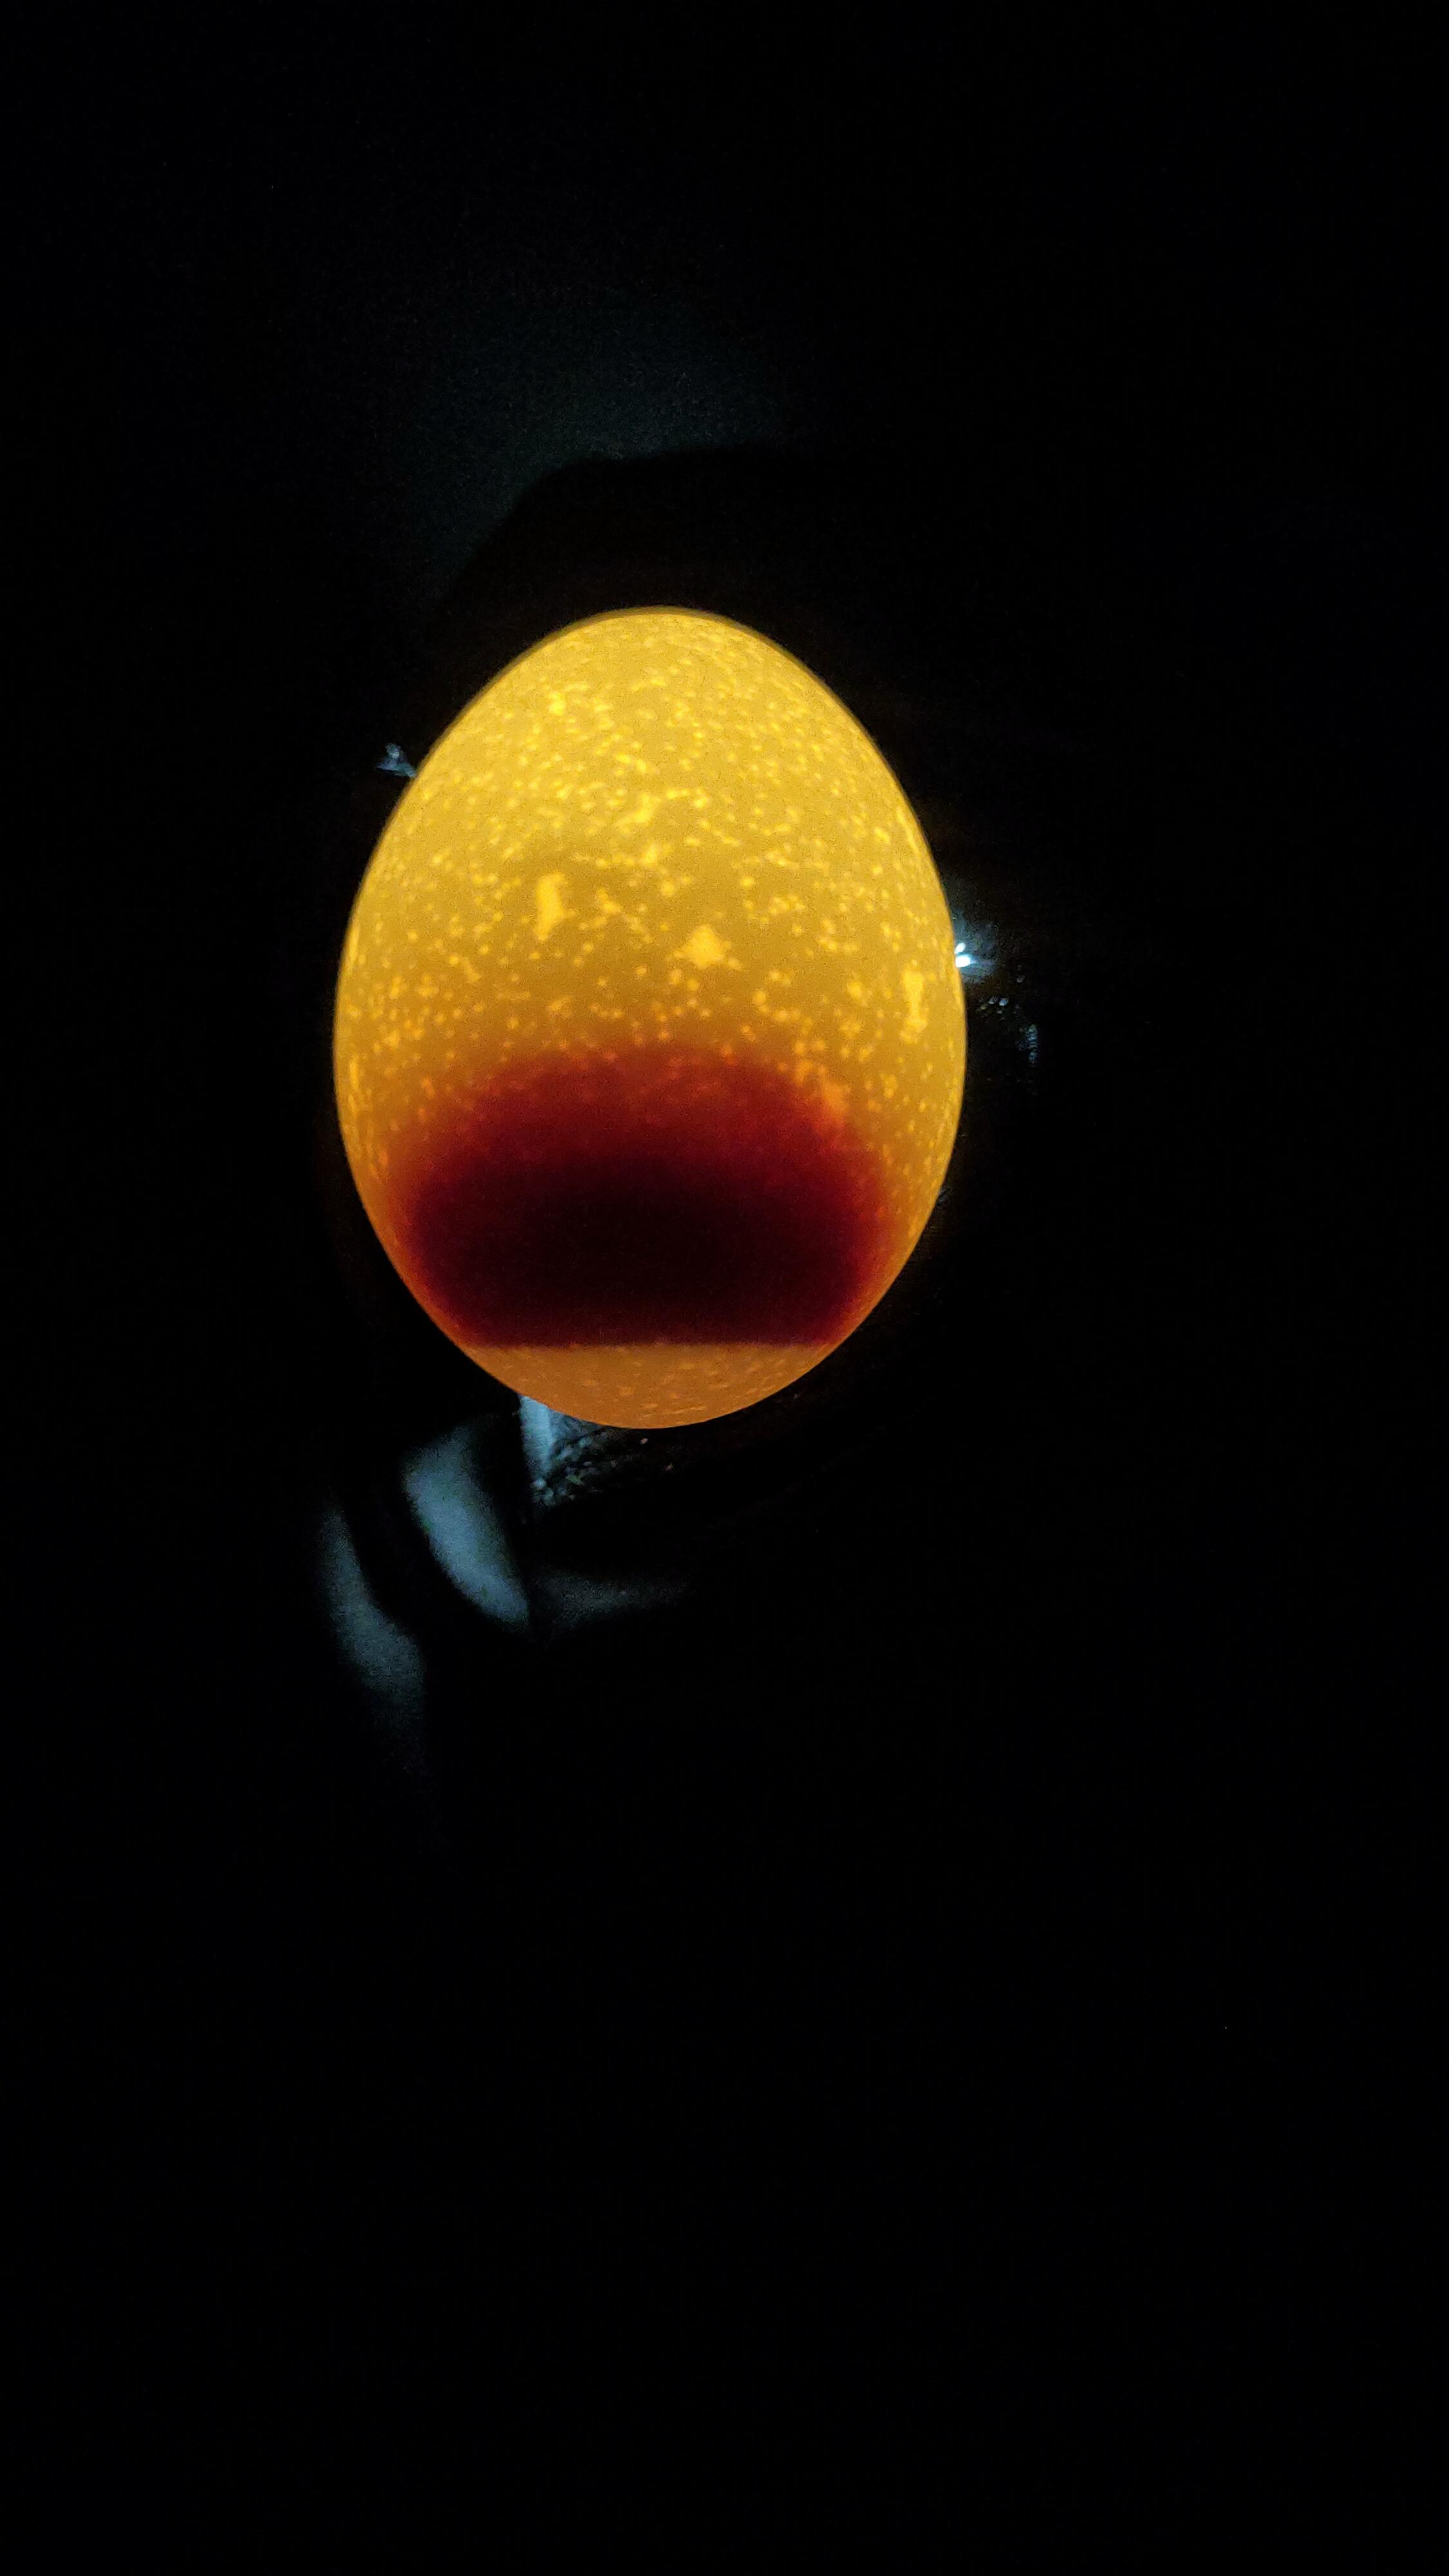AA - Premium: (271, 554, 1037, 1476)
